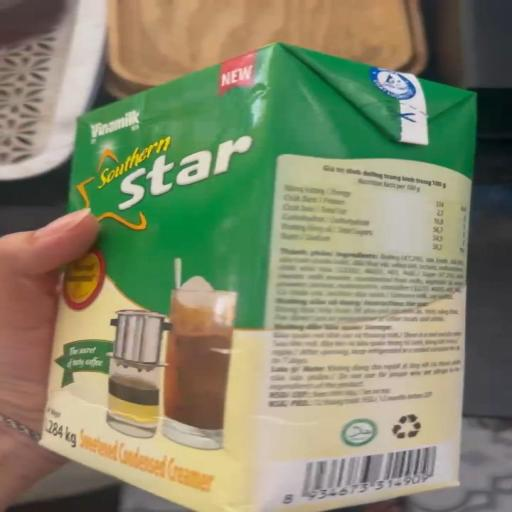ly_giay: (41, 44, 476, 512)
